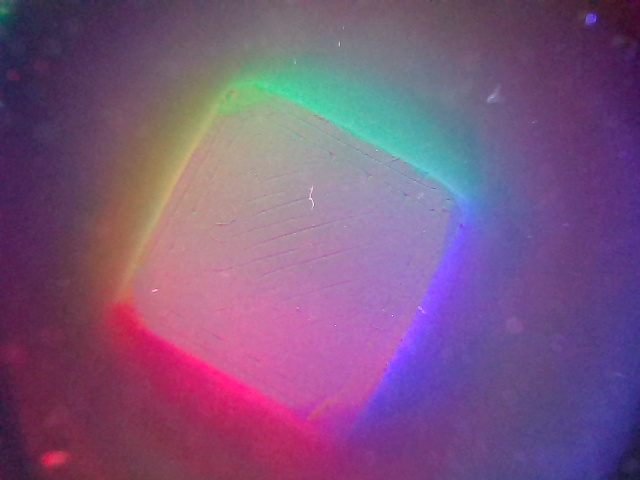contact: (136, 90, 458, 418)
